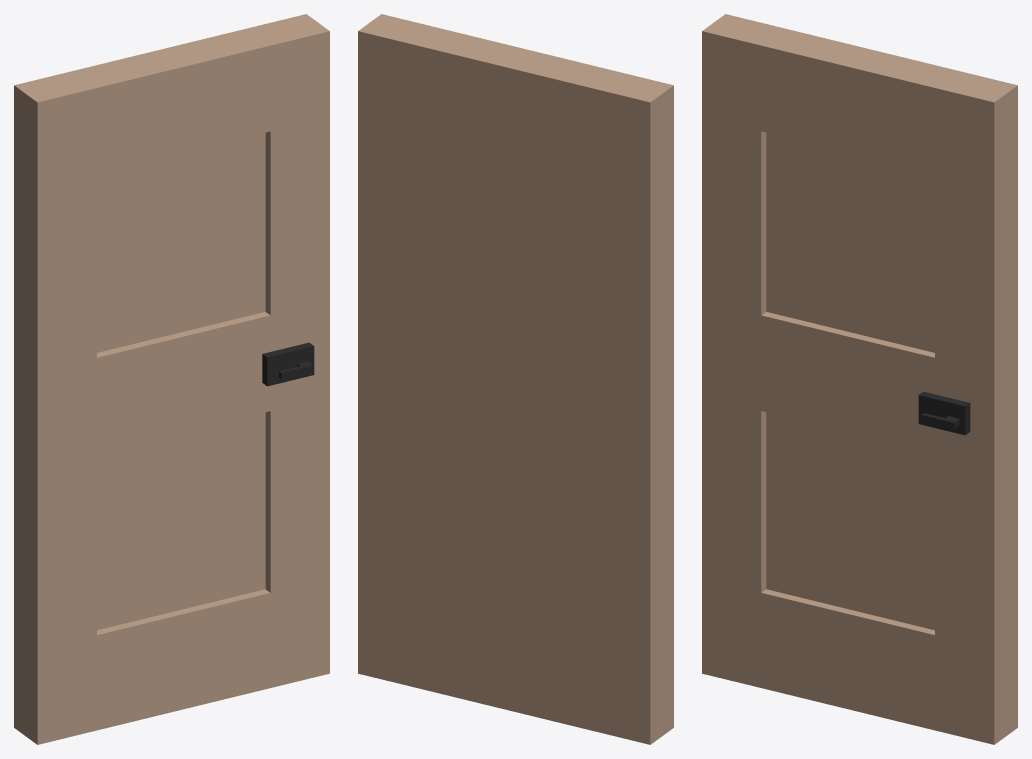
Rendered from closetDoor02.gltf.
The picture shows the model from 3 angles, left to right: view 1: azimuth 30°, elevation 25°; view 2: azimuth 150°, elevation 25°; view 3: azimuth 330°, elevation 25°; orthographic projection.
Visible parts, largest first — view 1: door, handle; view 2: door; view 3: door, handle.
Boxes of the visible parts, box(x1,y1,x2,y2) form: door: box(14, 14, 329, 744); handle: box(262, 342, 314, 386); door: box(358, 14, 673, 744); door: box(702, 14, 1017, 744); handle: box(918, 391, 970, 435).
Size of the model in its own units: 0.3745 by 0.7865 by 0.079.
1 material, 1 textured.
